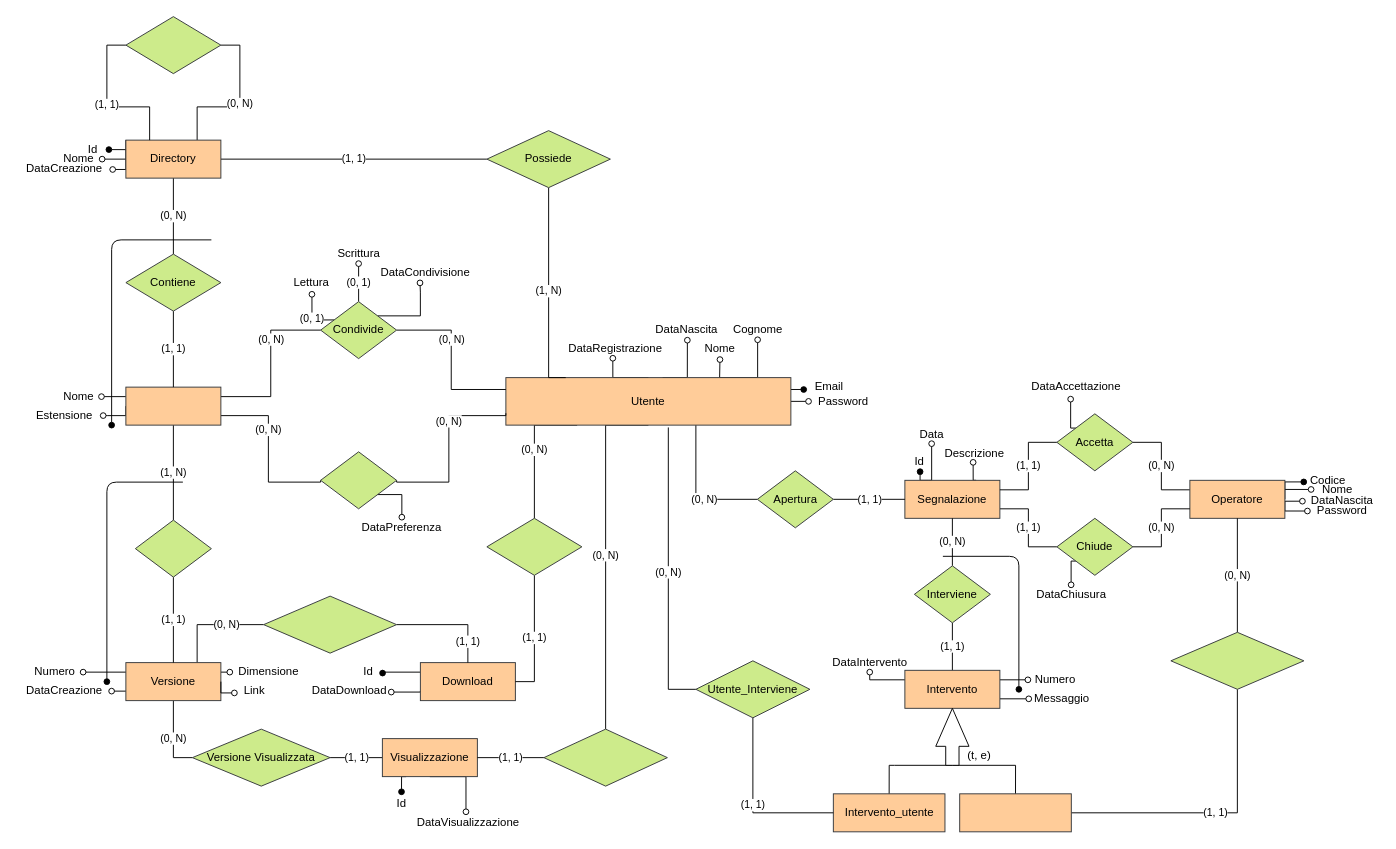
The diagram is 1396 pixels wide and 849 high, and some of its shapes have lost their labels. Each missing label, with the box of its shape:
File: (125, 386, 221, 425)
Intervento_operatore: (959, 793, 1071, 832)
Operatore_Interviene: (1170, 631, 1304, 689)
Preferisce: (320, 451, 397, 509)
Risiede: (125, 16, 221, 74)
Utene_Scarica: (486, 517, 582, 575)
Utente_Visualizza: (543, 728, 667, 786)
Versionato: (134, 519, 211, 577)
Versione Scaricata: (263, 595, 397, 653)
